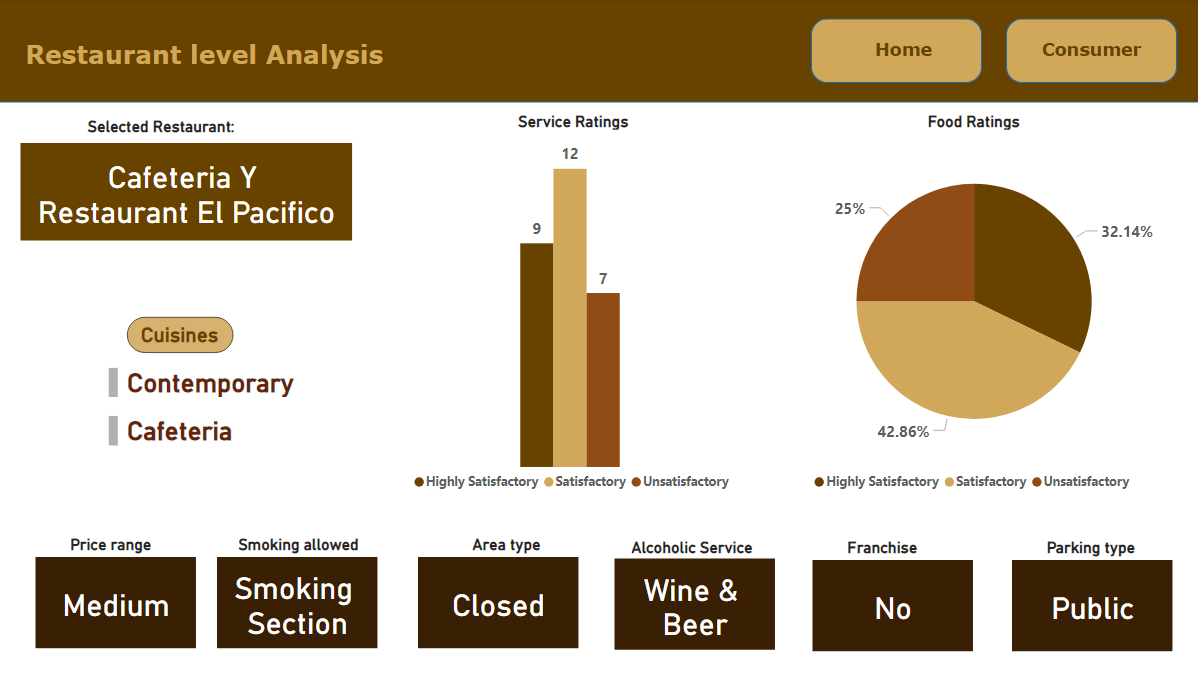

The page's visual inventory and layout, read from the dashboard file:
{"tool":"powerbi","page":{"name":"Restaurant Details","canvas":[1280,720],"ordinal":1},"visuals":[{"type":"shape","box":[0,0,1279.5,109.7],"z":0},{"type":"shape","box":[865,20,181.2,68.3],"z":0,"group":"g9"},{"type":"shape","box":[1070.6,20,181.2,68.3],"z":0,"group":"g10"},{"type":"card","fields":{"Values":["Min(restaurants.Name)"]},"box":[27,152.2,351.3,103.3],"z":0,"group":"g1"},{"type":"multiRowCard","title":"Cuisines ","fields":{"Values":["restaurant_cuisines.Cuisine"]},"box":[100.1,375.1,343.3,131.9],"z":0,"group":"g8"},{"type":"card","fields":{"Values":["Min(restaurants.Price)"]},"box":[42.9,590.6,170,97],"z":0,"group":"g2"},{"type":"card","fields":{"Values":["Min(restaurants.Smoking_Allowed)"]},"box":[235.2,590.6,170,97],"z":0,"group":"g3"},{"type":"card","fields":{"Values":["Min(restaurants.Area)"]},"box":[448.2,591.5,170,97],"z":0,"group":"g7"},{"type":"card","fields":{"Values":["Min(restaurants.Alcohol_Service)"]},"box":[656.4,592.9,170,97],"z":0,"group":"g4"},{"type":"card","fields":{"Values":["Min(restaurants.Franchise)"]},"box":[866.2,593.8,170,97],"z":0,"group":"g6"},{"type":"card","fields":{"Values":["Min(restaurants.Parking)"]},"box":[1077.6,593.8,170,97],"z":0,"group":"g5"},{"type":"textbox","box":[925,35.9,75,33],"z":1000,"group":"g9"},{"type":"textbox","box":[1099,36,124,33],"z":1000,"group":"g10"},{"type":"group","id":"g1","title":"Top res by or","box":[27,119.2,351.3,136.7],"z":1000},{"type":"textbox","box":[32.5,119.2,287.7,44.5],"z":1000,"group":"g1"},{"type":"textbox","box":[139.8,337,112.8,38.1],"z":1000,"group":"g8"},{"type":"textbox","box":[74.9,562.6,138.3,44.5],"z":1000,"group":"g2"},{"type":"textbox","box":[252.9,562.6,179.6,58.8],"z":1000,"group":"g3"},{"type":"textbox","box":[500.9,562.6,138.3,44.5],"z":1000,"group":"g7"},{"type":"textbox","box":[669.5,565.8,186.3,40.5],"z":1000,"group":"g4"},{"type":"textbox","box":[898.2,565.8,138.3,44.5],"z":1000,"group":"g6"},{"type":"textbox","box":[1109.6,565.8,138.3,44.5],"z":1000,"group":"g5"},{"type":"clusteredColumnChart","title":" Service Ratings","fields":{"Y":["Measure Table (2).hs_sratings","Measure Table (2).s_sratings","Measure Table (2).us_sratings"]},"box":[410.1,119.2,405.3,411.7],"z":2000},{"type":"pieChart","title":"Food Ratings","fields":{"Y":["Measure Table (2).hs_fratings","Measure Table (2).s_fratings","Measure Table (2).uns_fratings"]},"box":[810.6,119.2,453,411.7],"z":3000},{"type":"group","id":"g2","title":"Price range","box":[42.9,562.6,170.1,125.6],"z":4000},{"type":"group","id":"g3","title":"Smoking","box":[235.2,562.6,197.1,125.6],"z":5000},{"type":"group","id":"g4","title":"Alcoholic Service","box":[656.4,565.8,198.7,124],"z":6000},{"type":"group","id":"g5","title":"Parking","box":[1077.6,565.8,170.1,122.4],"z":7000},{"type":"group","id":"g6","title":"Franchise","box":[866.2,565.8,170.1,124],"z":8000},{"type":"group","id":"g7","title":"Area","box":[448.2,562.6,190.7,127.2],"z":9000},{"type":"group","id":"g8","title":"Cuisnes","box":[100.1,337,343.3,170.1],"z":10000},{"type":"group","id":"g9","title":"HomeButton","box":[865,20,181.2,68.3],"z":11000},{"type":"group","id":"g10","title":"ConsButton","box":[1070.6,20,181.2,68.3],"z":12000},{"type":"textbox","box":[27,36.6,653.2,65.2],"z":13000}]}

Visuals, with their boxes in screenshot pixels (x1, y1, x2, y2), scaled from the page's 1280x720 canvas onto the 1198x677 screenshot:
shape: x1=0, y1=0, x2=1197, y2=103
shape: x1=810, y1=19, x2=979, y2=83
shape: x1=1002, y1=19, x2=1172, y2=83
card - Min(restaurants.Name): x1=25, y1=143, x2=354, y2=240
"Cuisines " multiRowCard: x1=94, y1=353, x2=415, y2=477
card - Min(restaurants.Price): x1=40, y1=555, x2=199, y2=647
card - Min(restaurants.Smoking_Allowed): x1=220, y1=555, x2=379, y2=647
card - Min(restaurants.Area): x1=419, y1=556, x2=579, y2=647
card - Min(restaurants.Alcohol_Service): x1=614, y1=557, x2=773, y2=649
card - Min(restaurants.Franchise): x1=811, y1=558, x2=970, y2=650
card - Min(restaurants.Parking): x1=1009, y1=558, x2=1168, y2=650
textbox: x1=866, y1=34, x2=936, y2=65
textbox: x1=1029, y1=34, x2=1145, y2=65
"Top res by or" group: x1=25, y1=112, x2=354, y2=241
textbox: x1=30, y1=112, x2=300, y2=154
textbox: x1=131, y1=317, x2=236, y2=353
textbox: x1=70, y1=529, x2=200, y2=571
textbox: x1=237, y1=529, x2=405, y2=584
textbox: x1=469, y1=529, x2=598, y2=571
textbox: x1=627, y1=532, x2=801, y2=570
textbox: x1=841, y1=532, x2=970, y2=574
textbox: x1=1039, y1=532, x2=1168, y2=574
" Service Ratings" clusteredColumnChart: x1=384, y1=112, x2=763, y2=499
"Food Ratings" pieChart: x1=759, y1=112, x2=1183, y2=499
"Price range" group: x1=40, y1=529, x2=199, y2=647
"Smoking" group: x1=220, y1=529, x2=405, y2=647
"Alcoholic Service" group: x1=614, y1=532, x2=800, y2=649
"Parking" group: x1=1009, y1=532, x2=1168, y2=647
"Franchise" group: x1=811, y1=532, x2=970, y2=649
"Area" group: x1=419, y1=529, x2=598, y2=649
"Cuisnes" group: x1=94, y1=317, x2=415, y2=477
"HomeButton" group: x1=810, y1=19, x2=979, y2=83
"ConsButton" group: x1=1002, y1=19, x2=1172, y2=83
textbox: x1=25, y1=34, x2=637, y2=96
